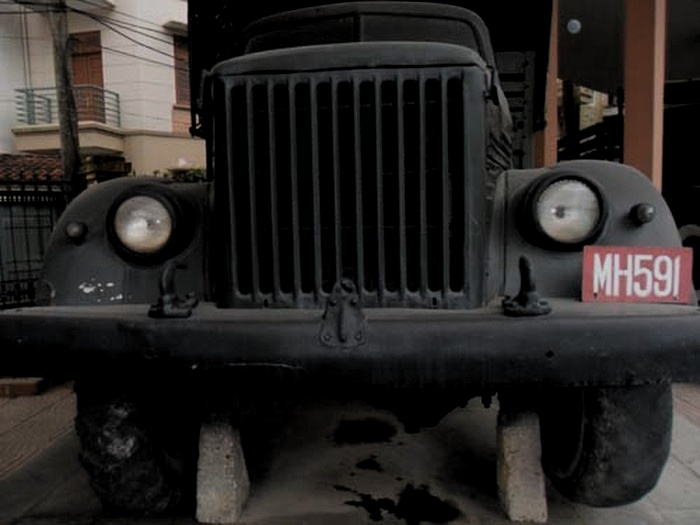plate: (581, 246, 692, 307)
